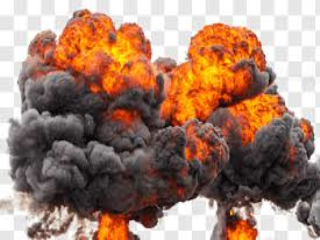fire: (56, 11, 265, 100), (90, 205, 140, 240), (219, 212, 259, 238)
smoke: (17, 100, 308, 195)
